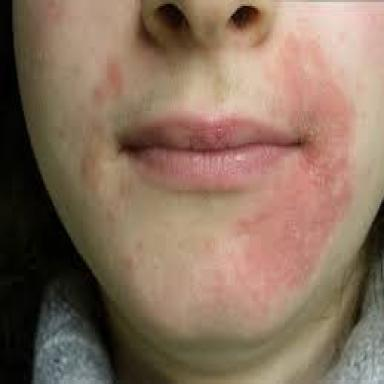burn: (209, 33, 356, 315), (172, 120, 285, 179), (93, 51, 125, 104), (355, 1, 383, 52), (80, 148, 104, 195), (38, 0, 71, 26)
